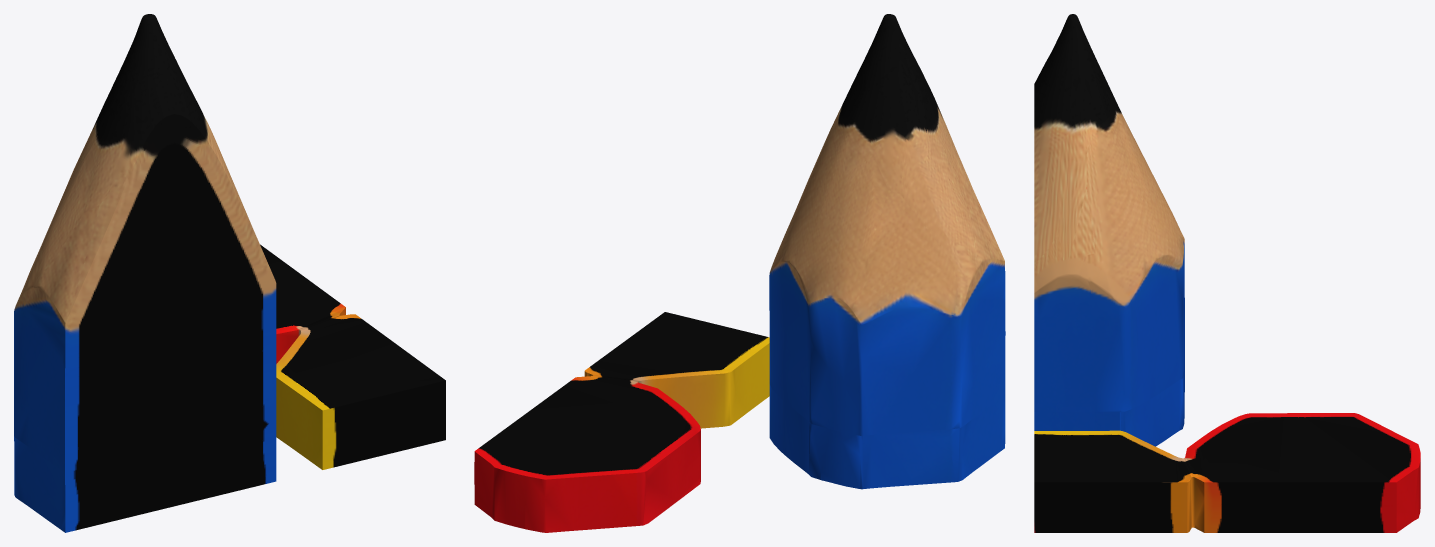
The model's file is 11-roof-back-left.fbx.
3 views of the same model, side by side, from view 1: azimuth 30°, elevation 25°; view 2: azimuth 150°, elevation 25°; view 3: azimuth 270°, elevation 25° (orthographic). The views are drawn at different scales.
Parts seen in each view (by area): view 1: roof-back-left; view 2: roof-back-left; view 3: roof-back-left.
Part boxes in pixels (bbox=[...]): roof-back-left: bbox=[14, 14, 445, 532]; roof-back-left: bbox=[474, 14, 1005, 532]; roof-back-left: bbox=[1034, 14, 1420, 532].
Bounding box in the file's own units: 3470 × 4122 × 3576.
Materials: 1 (1 with a texture image).
